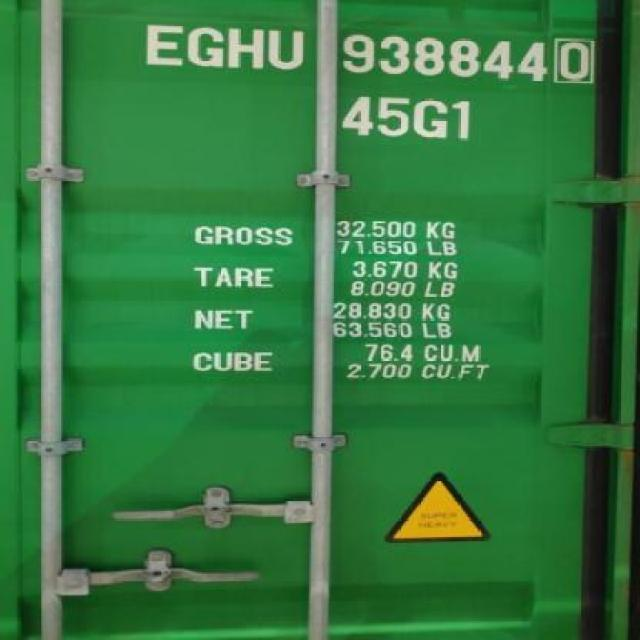ISO: (338, 98, 478, 140)
container_number: (129, 5, 594, 86)
